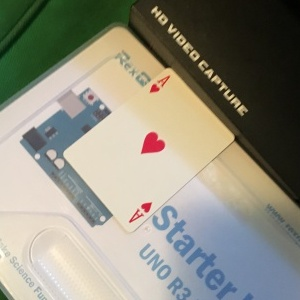card: (62, 67, 237, 233)
